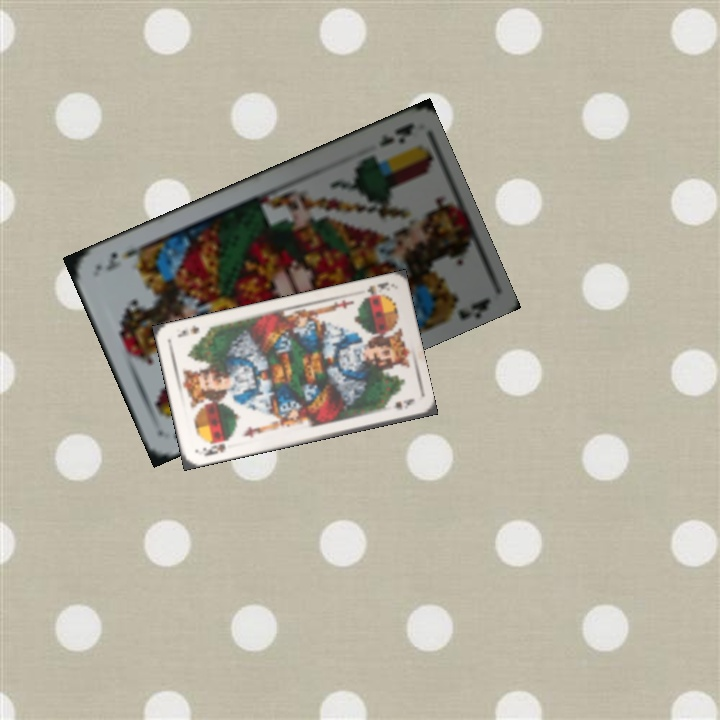EK: (374, 118, 415, 149)
SK: (360, 278, 391, 302), (199, 439, 228, 459)
